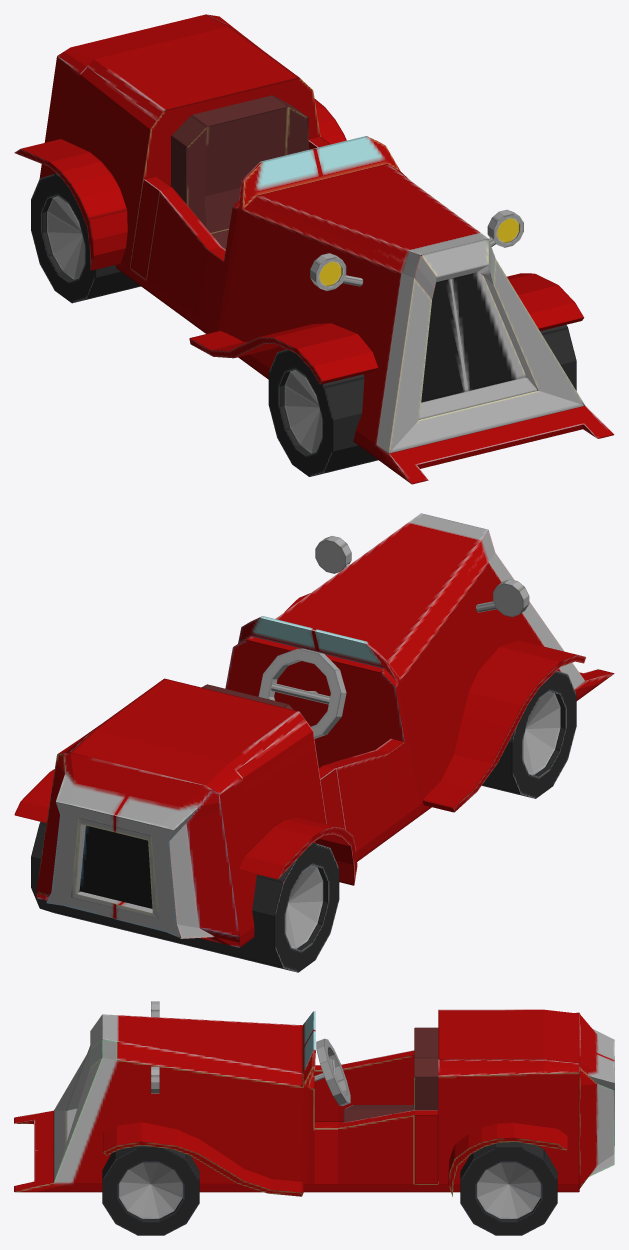
File: car.fbx
3 renders of one model, top to bottom at view 1: azimuth 30°, elevation 25°; view 2: azimuth 150°, elevation 25°; view 3: azimuth 270°, elevation 25°, orthographic. The views are drawn at different scales.
Parts seen in each view (by area): view 1: cuboid, cuboid_1, cylinder_8, cylinder_7, plane_2, plane, plane_1, cylinder_3, cylinder_2, plane_3; view 2: cuboid, cylinder_7, plane, cylinder_8, plane_2, cylinder_5, plane_3, cylinder_3, cylinder_2; view 3: cuboid, cylinder_7, cylinder_8, plane_1, cuboid_1, plane_3, cylinder_5.
Part boxes in pixels (box(x1,y1,x2,y2)): cuboid: box(39, 14, 614, 484); cuboid_1: box(171, 95, 308, 249); cylinder_8: box(268, 324, 576, 476); cylinder_7: box(31, 173, 140, 303); plane_2: box(14, 139, 127, 270); plane: box(189, 323, 378, 384); plane_1: box(507, 273, 584, 330); cylinder_3: box(310, 253, 346, 290); cylinder_2: box(487, 209, 523, 247); plane_3: box(314, 99, 346, 144); cuboid: box(36, 513, 614, 947); cylinder_7: box(31, 821, 339, 972); plane: box(422, 640, 585, 812); cylinder_8: box(380, 671, 576, 798); plane_2: box(239, 817, 357, 885); cylinder_5: box(258, 648, 346, 738); plane_3: box(14, 769, 54, 822); cylinder_3: box(493, 579, 529, 617); cylinder_2: box(315, 536, 351, 573); cuboid: box(14, 1009, 614, 1192); cylinder_7: box(460, 1141, 557, 1235); cylinder_8: box(102, 1145, 199, 1235); plane_1: box(103, 1122, 303, 1196); cuboid_1: box(343, 1027, 439, 1122); plane_3: box(448, 1123, 567, 1196); cylinder_5: box(316, 1038, 350, 1106).
Bounding box in the file's own units: 81.25 × 64.06 × 212.
Materials: 1 (1 with a texture image).
